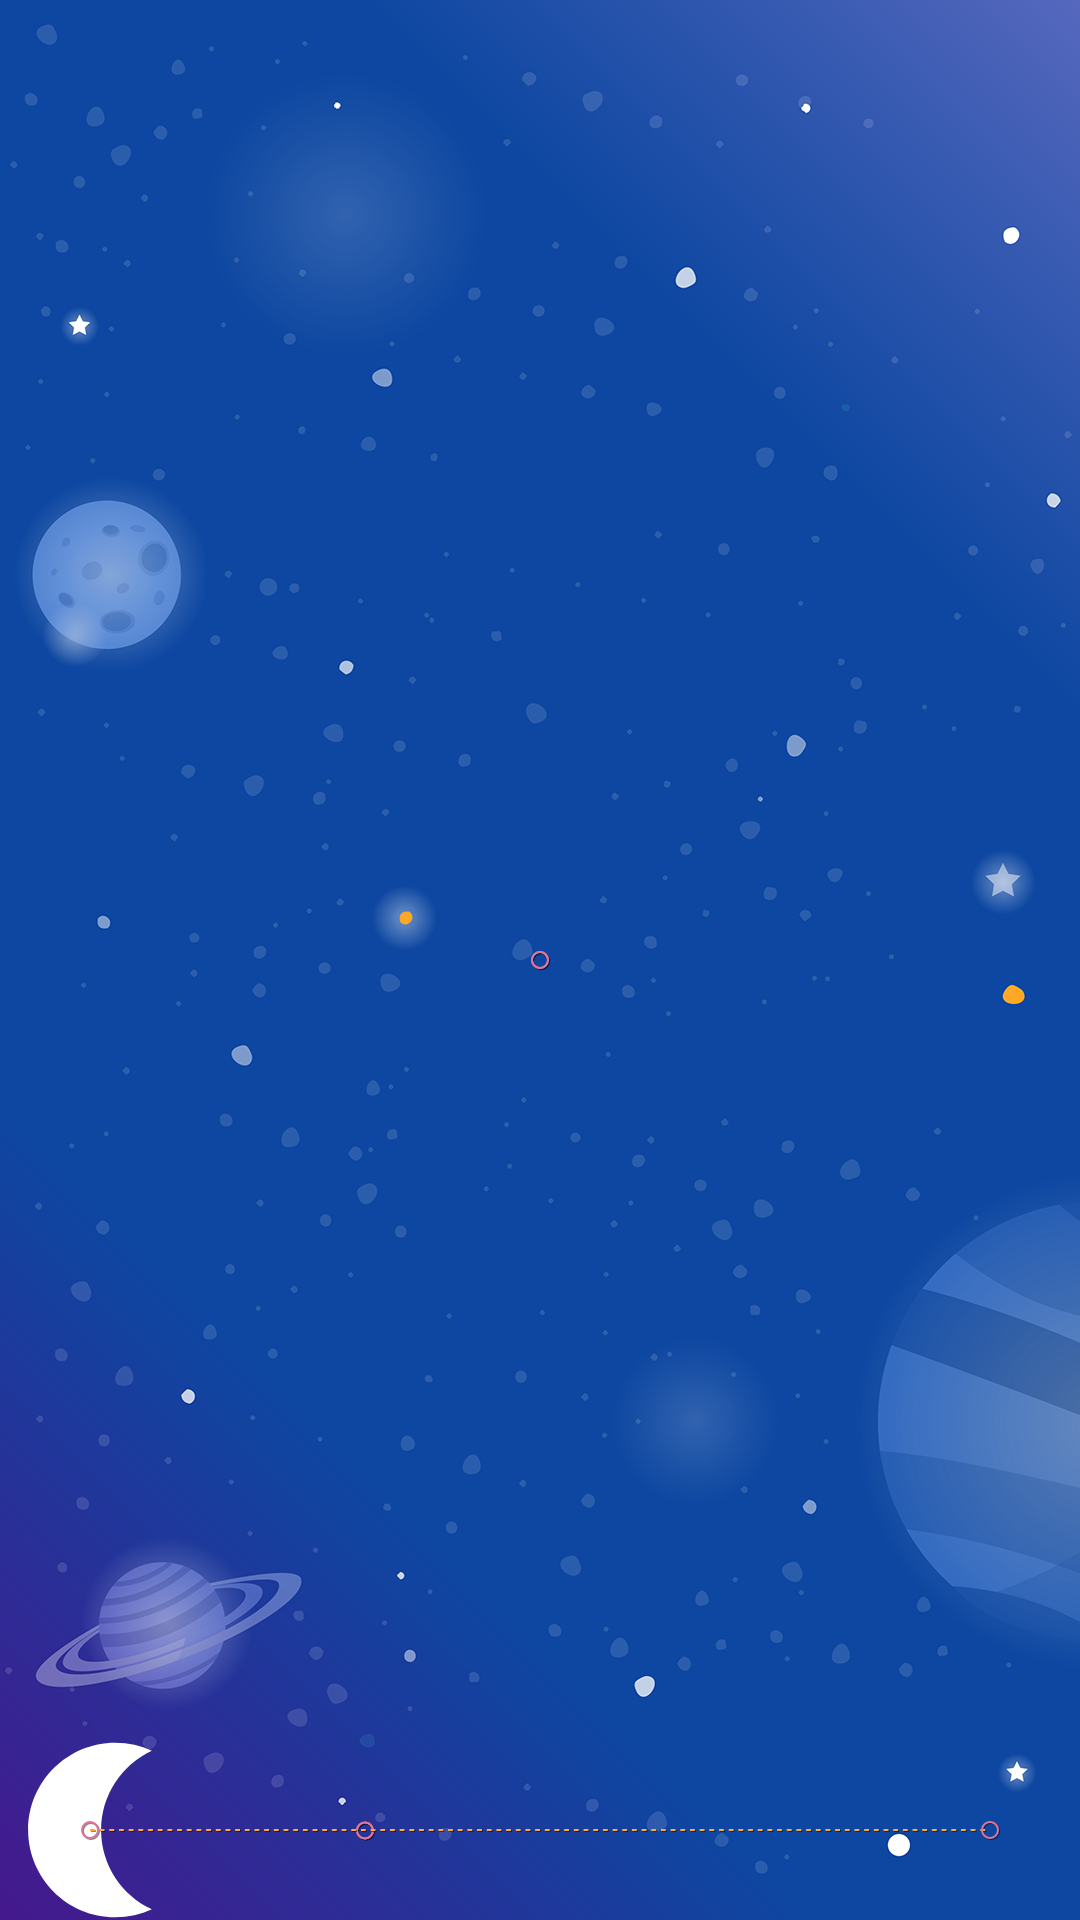

Icons on this 1080px×1920px Android screen, each with the point to tap as (x,y):
Moon: (104,1829)
